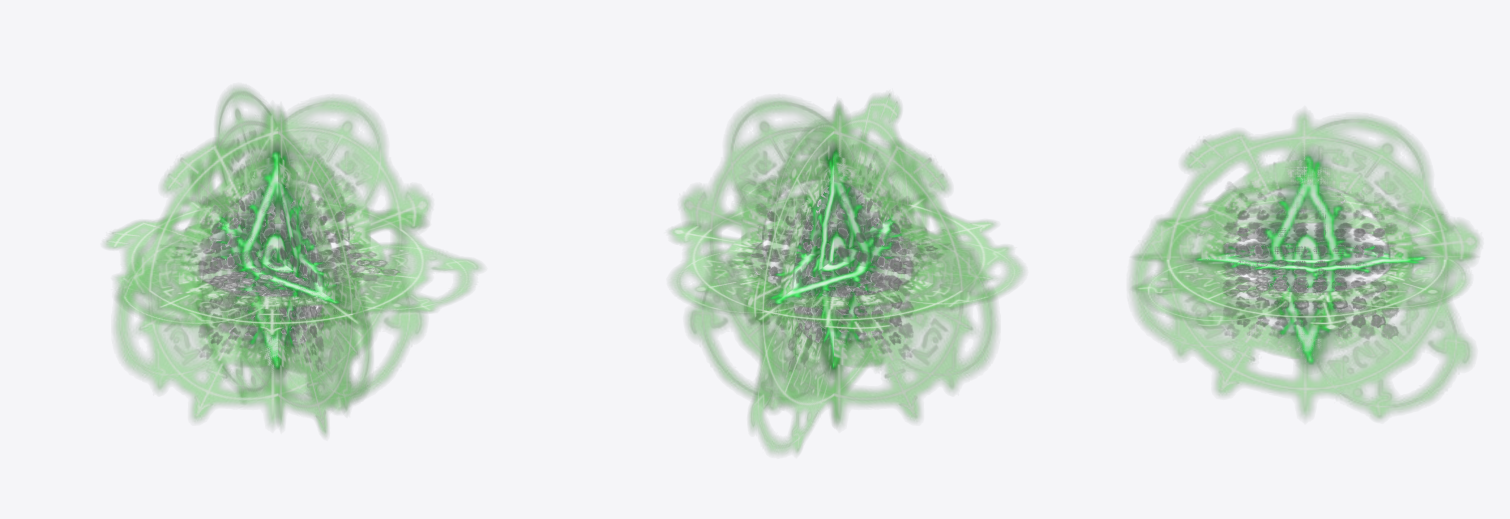
The model's file is demonfilth.glb.
3 views of the same model, side by side, from view 1: azimuth 30°, elevation 25°; view 2: azimuth 150°, elevation 25°; view 3: azimuth 270°, elevation 25° (orthographic). The views are drawn at different scales.
Parts seen in each view (by area): view 1: mesh; view 2: mesh; view 3: mesh.
Boxes of the visible parts, left/top/right/bottom form: mesh: left=105, top=87, right=481, bottom=435; mesh: left=670, top=93, right=1023, bottom=453; mesh: left=1130, top=112, right=1479, bottom=419.
Bounding box in the file's own units: 4.31 × 4.31 × 4.31.
Materials: 3 (3 with a texture image).
